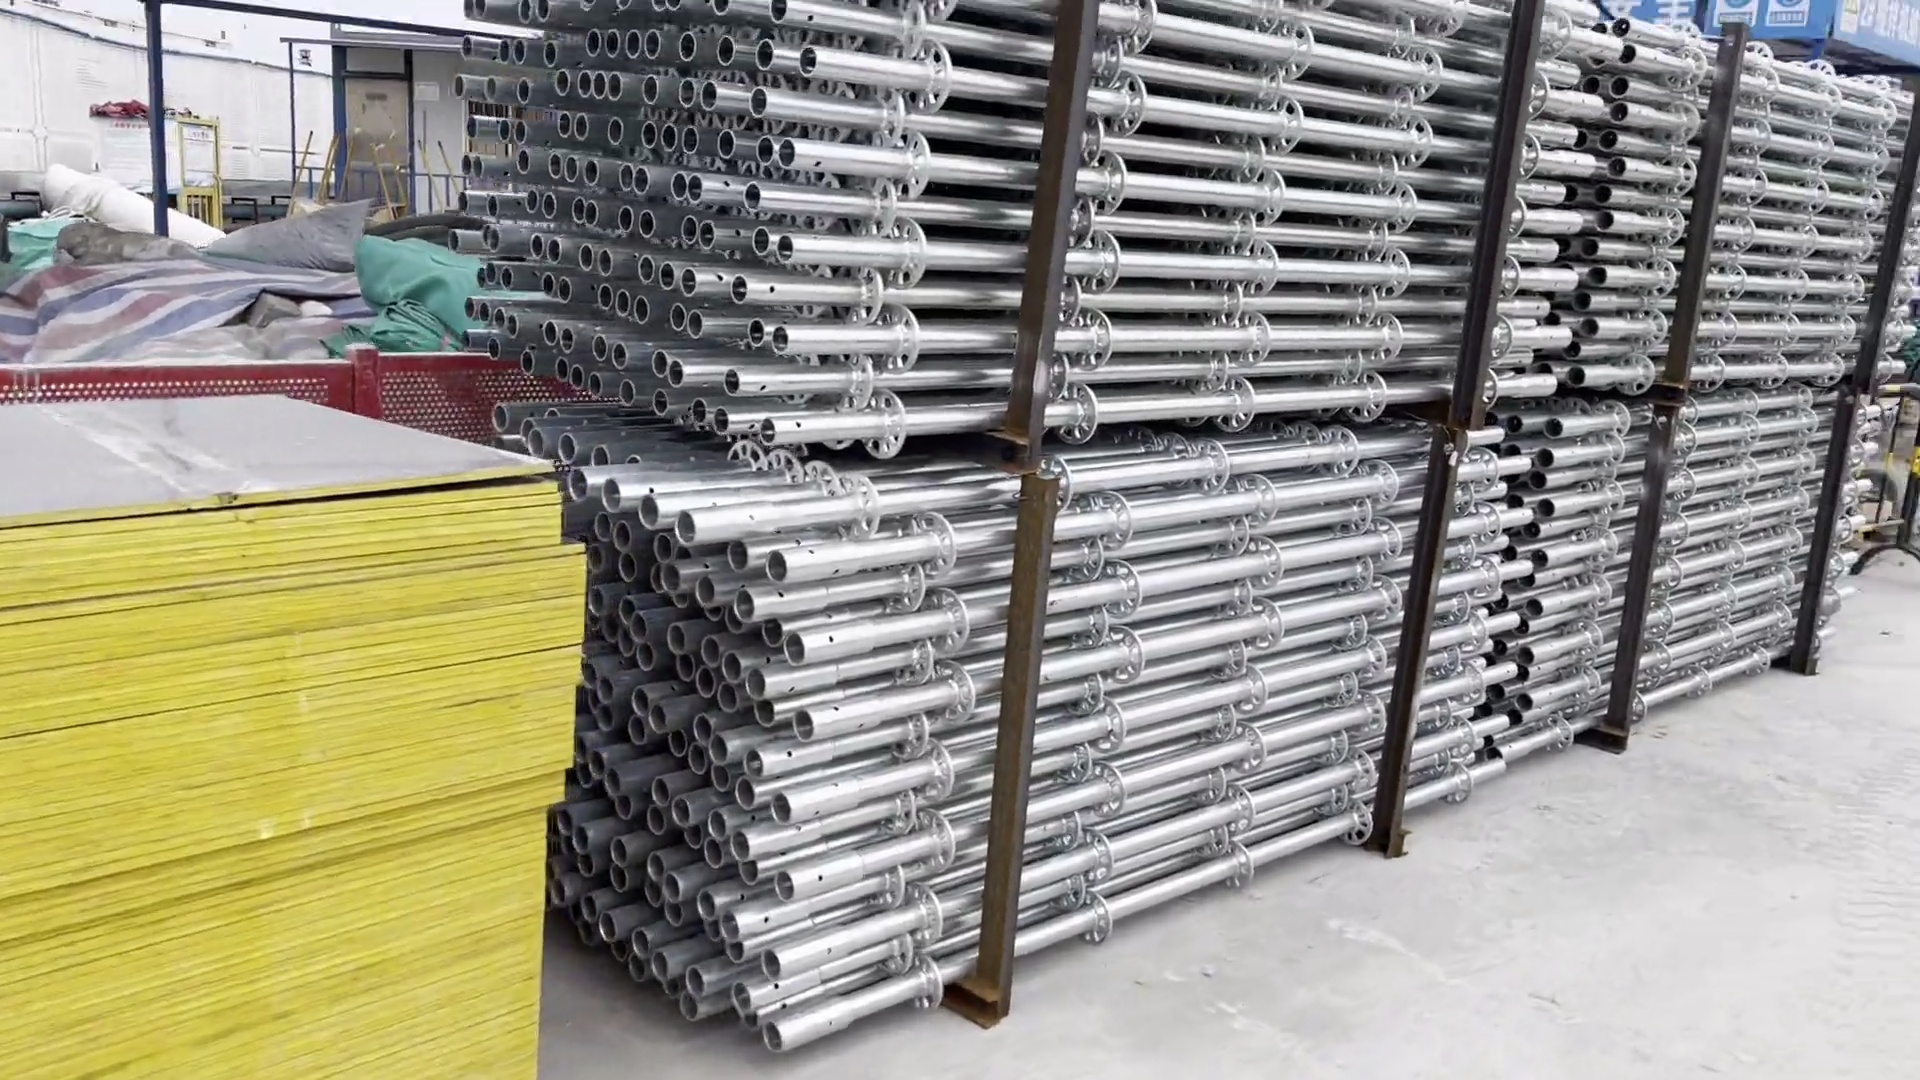board: (1, 397, 636, 1077)
scaffold: (491, 435, 1514, 1064), (469, 11, 1693, 431), (1491, 389, 1920, 782), (1493, 22, 1920, 407)
